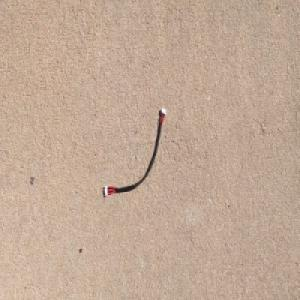Wire: (103, 106, 167, 199)
